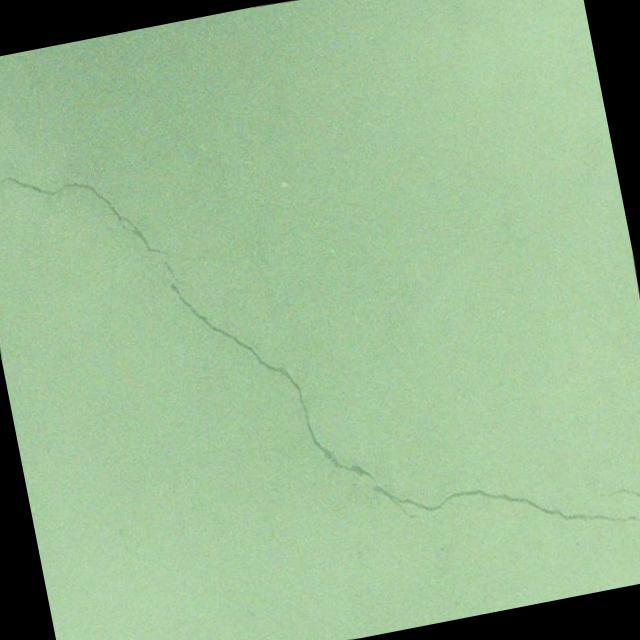crack: (0, 61, 640, 640), (593, 478, 640, 513)
